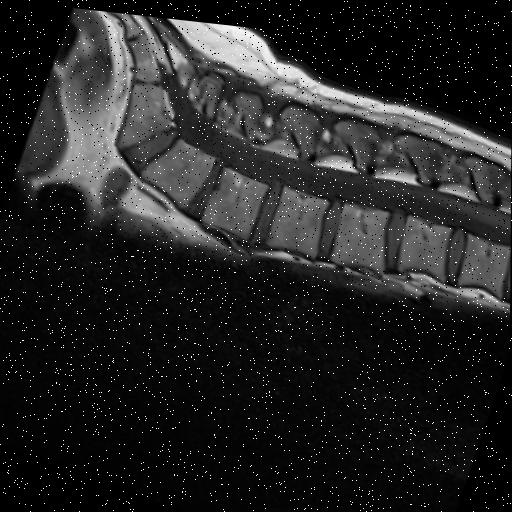L1: (397, 205, 452, 272)
L2: (328, 194, 389, 265)
L3: (265, 179, 329, 250)
L4: (200, 160, 268, 234)
L5: (140, 134, 215, 203)
S1: (115, 79, 171, 146)
